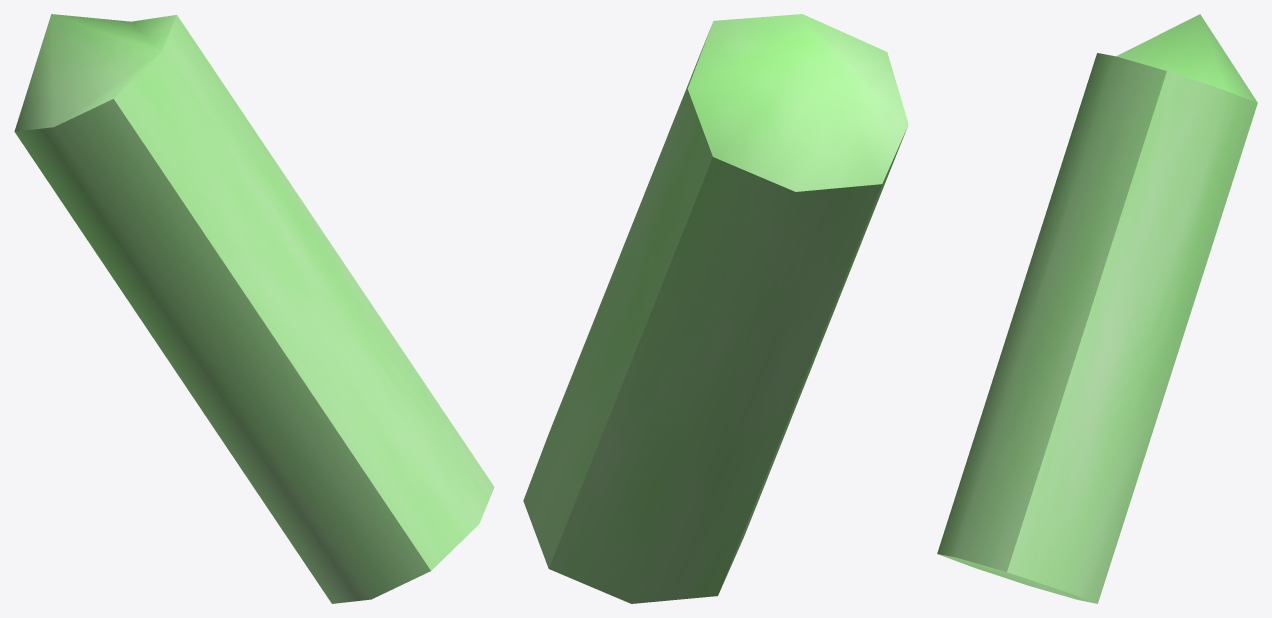
Rendered from Spire.fbx.
3 renders of one model, left to right at view 1: azimuth 30°, elevation 25°; view 2: azimuth 150°, elevation 25°; view 3: azimuth 270°, elevation 25°, orthographic. The views are drawn at different scales.
Visible parts, largest first — view 1: pCube19; view 2: pCube19; view 3: pCube19.
Part boxes in pixels (x1,y1,x2,y2): pCube19: [14, 14, 494, 603]; pCube19: [523, 14, 908, 603]; pCube19: [937, 14, 1257, 603].
Size of the model in its own units: 606 by 864 by 509.
